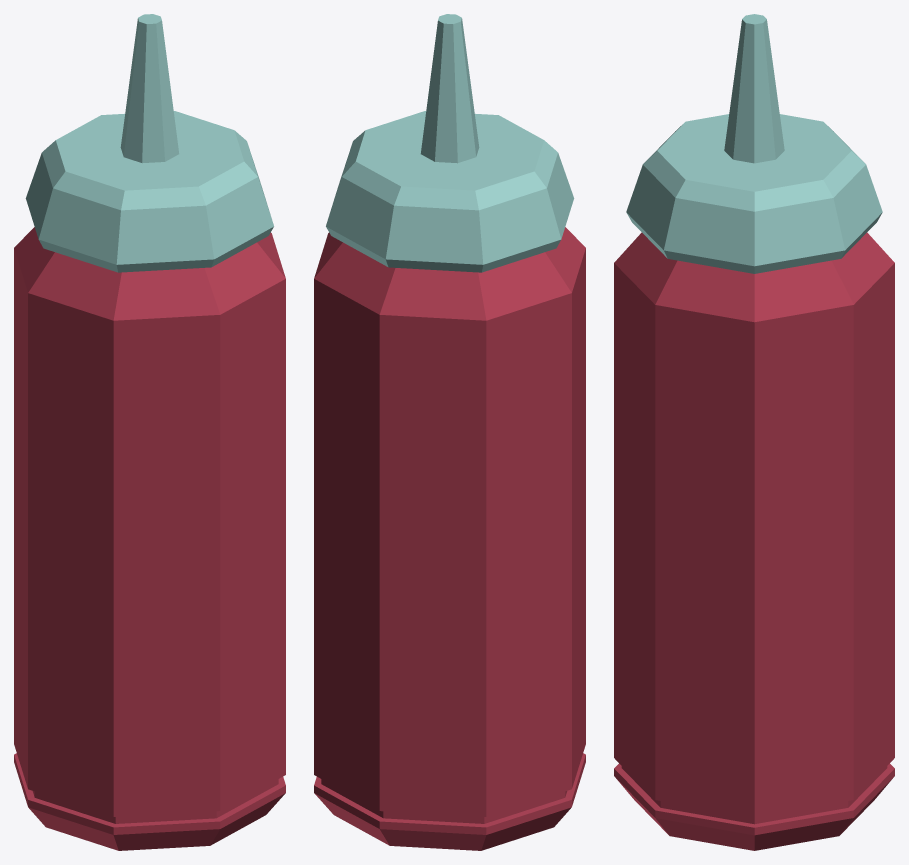
The model's file is Potion.SugarSquEZ.fbx.
The picture shows the model from 3 angles, left to right: view 1: azimuth 30°, elevation 25°; view 2: azimuth 150°, elevation 25°; view 3: azimuth 270°, elevation 25°; orthographic projection.
Parts seen in each view (by area): view 1: Potion.SugarSquEZ; view 2: Potion.SugarSquEZ; view 3: Potion.SugarSquEZ.
Part boxes in pixels (x1=…): Potion.SugarSquEZ: x1=14, y1=14, x2=285, y2=850; Potion.SugarSquEZ: x1=314, y1=14, x2=585, y2=850; Potion.SugarSquEZ: x1=614, y1=14, x2=894, y2=850.
Bounding box in the file's own units: 33.09 × 102 × 33.09.
